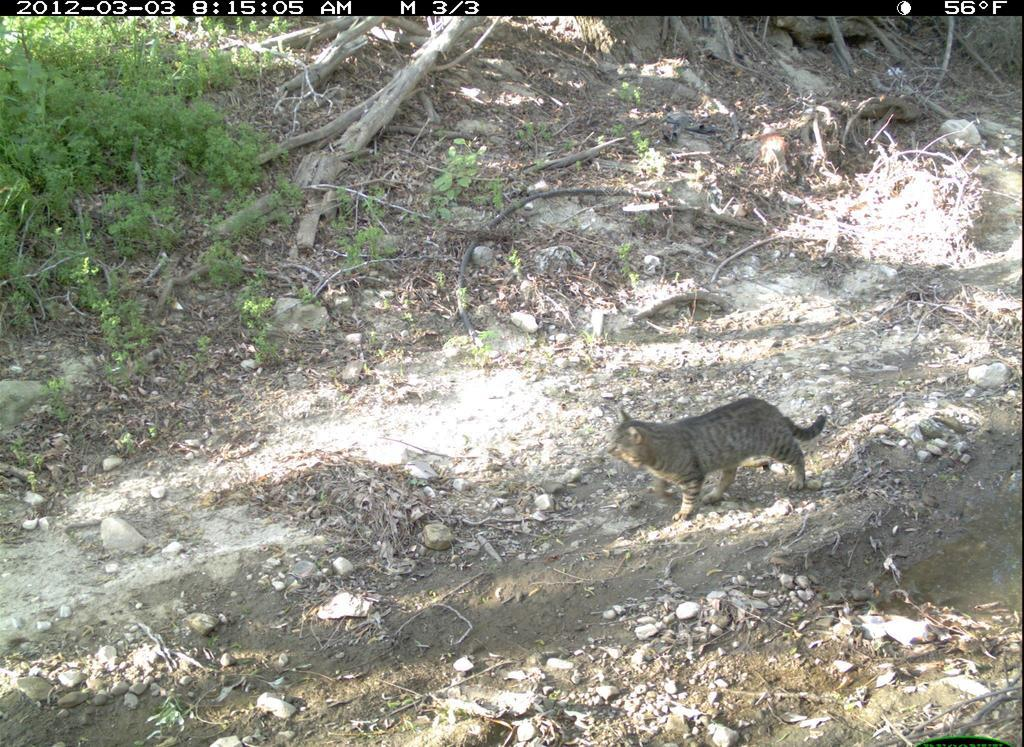cat: (606, 400, 840, 530)
